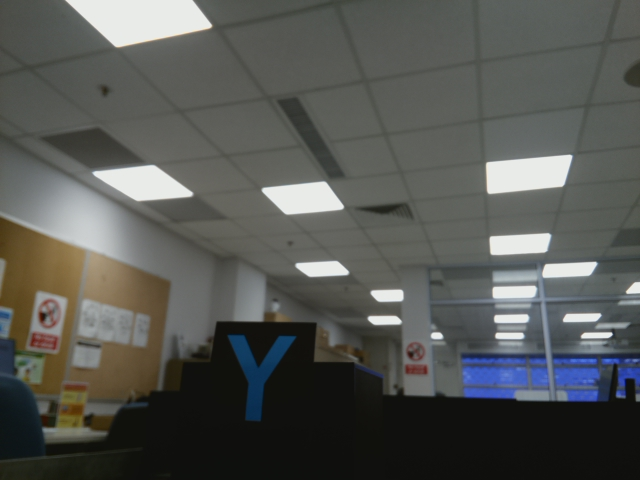y: (221, 329, 303, 426)
